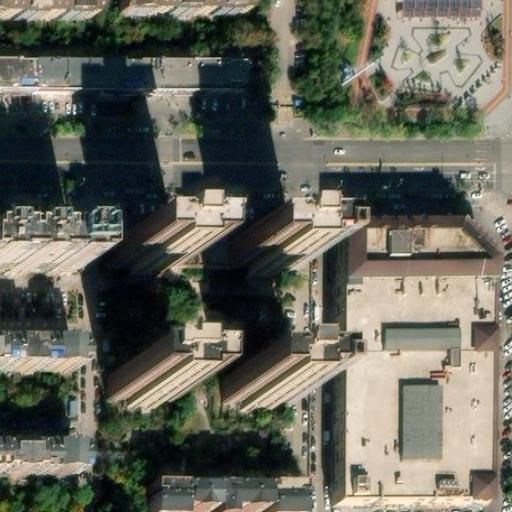building: (349, 214, 494, 492), (35, 55, 260, 85), (148, 483, 297, 512), (0, 232, 83, 270), (224, 239, 305, 276), (156, 238, 252, 268), (223, 371, 295, 410), (107, 370, 176, 408), (107, 238, 176, 276), (116, 0, 257, 18), (0, 0, 102, 24), (0, 346, 70, 375), (0, 454, 70, 480), (404, 0, 485, 16), (273, 239, 305, 246), (107, 237, 134, 244)
